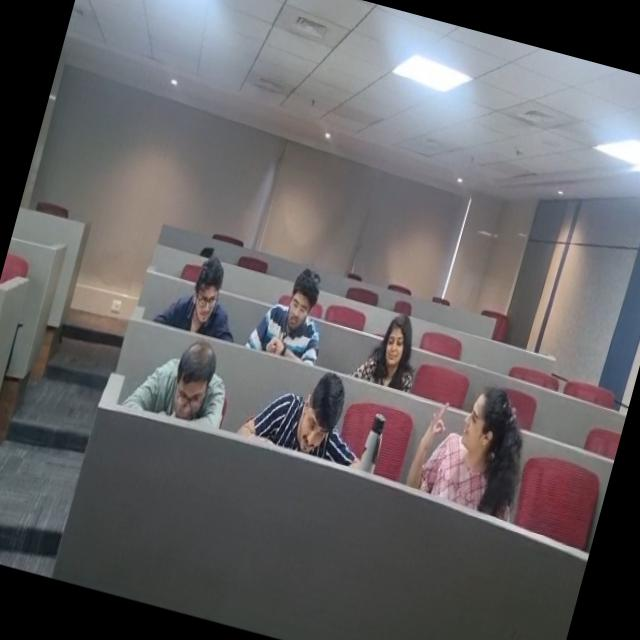cheating: (386, 360, 554, 533), (130, 210, 270, 355), (248, 253, 348, 378)
non-cheating: (252, 368, 378, 486), (349, 285, 447, 408), (140, 342, 252, 444)
